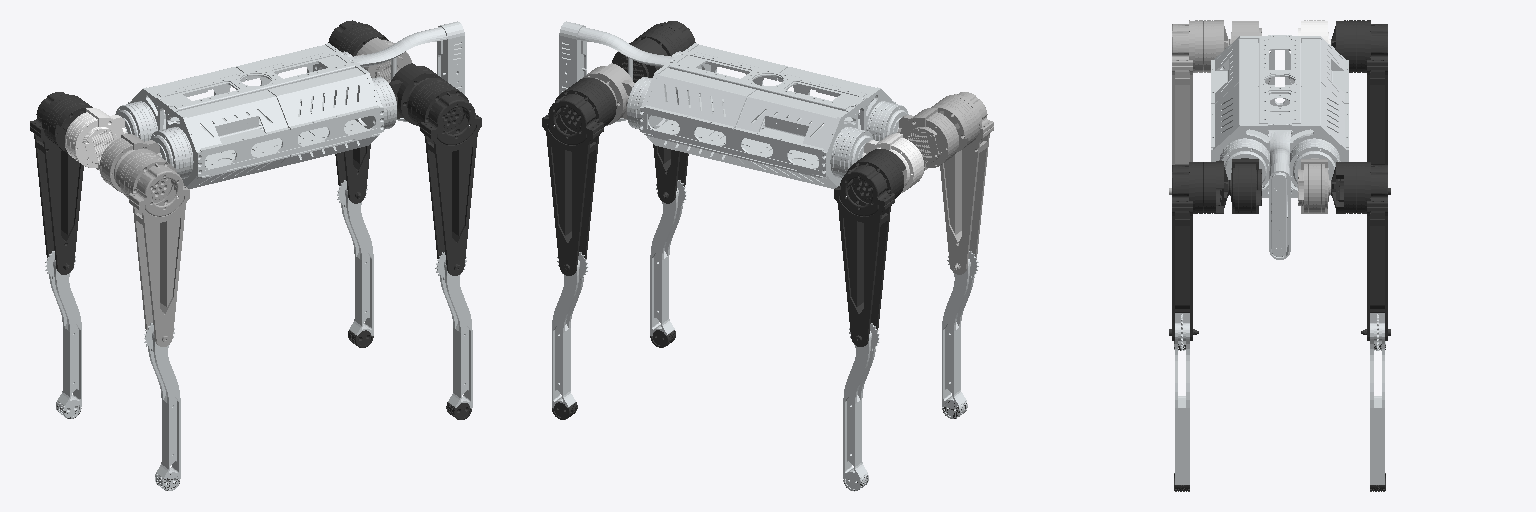
--- Render facts (derived) ---
3 views of the same robot in one strip: view 1: azimuth 30°, elevation 25°; view 2: azimuth 150°, elevation 25°; view 3: azimuth 270°, elevation 25° (orthographic).
Model scotty_robot with 19 links and 18 joints (12 revolute, 6 fixed), rooted at base_link, posed all joints at 0.
Visible links, largest first — view 1: trunk, hip_FR_link, hip_RR_link, hip_RL_link, knee_RL_link, knee_RR_link, knee_FR_link, knee_FL_link, hip_FL_link, abad_RL_link, abad_RR_link, abad_FR_link (+1 smaller); view 2: trunk, hip_FL_link, hip_RL_link, hip_RR_link, knee_RL_link, knee_RR_link, knee_FR_link, knee_FL_link, hip_FR_link, abad_RR_link, abad_RL_link, abad_FL_link (+1 smaller); view 3: trunk, hip_FR_link, hip_FL_link, hip_RR_link, hip_RL_link, knee_FR_link, knee_FL_link, abad_FR_link, abad_FL_link.
Link boxes in pixels (x1,y1,x2,y2): trunk: (115,21,464,188); hip_FR_link: (407,78,481,275); hip_RR_link: (116,149,189,346); hip_RL_link: (30,92,92,274); knee_RL_link: (45,251,81,418); knee_RR_link: (144,323,180,490); knee_FR_link: (435,252,472,408); knee_FL_link: (337,180,373,335); hip_FL_link: (328,20,388,203); abad_RL_link: (65,108,126,170); abad_RR_link: (99,133,160,192); abad_FR_link: (389,63,441,125); trunk: (559,21,908,188); hip_FL_link: (542,78,616,275); hip_RL_link: (834,149,905,346); hip_RR_link: (931,92,993,274); knee_RL_link: (843,323,879,491); knee_RR_link: (942,251,978,418); knee_FR_link: (650,180,686,335); knee_FL_link: (552,252,588,407); hip_FR_link: (634,21,695,203); abad_RR_link: (897,108,958,170); abad_RL_link: (863,133,924,192); abad_FL_link: (582,63,634,125); trunk: (1211,35,1348,259); hip_FR_link: (1169,161,1228,340); hip_FL_link: (1331,162,1390,340); hip_RR_link: (1169,20,1228,194); hip_RL_link: (1331,20,1390,194); knee_FR_link: (1175,314,1189,484); knee_FL_link: (1370,314,1384,484); abad_FR_link: (1229,158,1261,213); abad_FL_link: (1298,158,1330,213).
Size in the robot's own frame: 0.8054 by 0.4186 by 0.7125 metres.
Meshes: 17 distinct files referenced, 17 mesh visuals loaded (17 binary STL).

The robot description file, URDF, robot "scotty_robot":
<?xml version="1.0" ?>
<!-- =================================================================================== -->
<!-- |    This document was autogenerated by xacro from scotty_final.urdf.xacro        | -->
<!-- |    EDITING THIS FILE BY HAND IS NOT RECOMMENDED                                 | -->
<!-- =================================================================================== -->
<robot name="scotty_robot" xmlns:xacro="http://ros.org/wiki/xacro">
  <link name="base_link">
    <visual>
      <origin rpy="0 0 0" xyz="0 0 0"/>
      <geometry>
        <box size="0.001 0.001 0.001"/>
      </geometry>
    </visual>
  </link>
  <joint name="floating_base_link" type="fixed">
    <origin rpy="0 0 0" xyz="0 0 0"/>
    <parent link="base_link"/>
    <child link="trunk"/>
  </joint>
  <!-- <link
    name="base_link"> -->
  <link name="trunk">
    <inertial>
      <origin rpy="0 0 0" xyz="0 0 0.02"/>
      <mass value="6.03"/>
      <inertia ixx="0.04" ixy="0" ixz="0" iyy="0.24" iyz="0" izz="0.27"/>
    </inertial>
    <visual>
      <origin rpy="0 0 0" xyz="0 0 0"/>
      <geometry>
        <mesh filename="package://scotty_description/meshes/base_link.STL"/>
      </geometry>
      <material name="">
        <color rgba="0.89804 0.91765 0.92941 1"/>
      </material>
    </visual>
    <collision>
      <origin rpy="0 0 0" xyz="0 0 0"/>
      <geometry>
        <mesh filename="package://scotty_description/meshes/base_link.STL"/>
      </geometry>
    </collision>
  </link>
  <link name="abad_FR_link">
    <inertial>
      <origin rpy="0 0 0" xyz="0.06 0 0"/>
      <mass value="1.03"/>
      <inertia ixx="0" ixy="0" ixz="0" iyy="0" iyz="0" izz="0"/>
    </inertial>
    <visual>
      <origin rpy="0 0 0" xyz="0 0 0"/>
      <geometry>
        <mesh filename="package://scotty_description/meshes/abad_FR_link.STL"/>
      </geometry>
      <material name="">
        <color rgba="0.29804 0.29804 0.29804 1"/>
      </material>
    </visual>
    <collision>
      <origin rpy="0 0 0" xyz="0 0 0"/>
      <geometry>
        <mesh filename="package://scotty_description/meshes/abad_FR_link.STL"/>
      </geometry>
    </collision>
  </link>
  <joint name="abad_FR_joint" type="revolute">
    <origin rpy="0 0 0" xyz="0.2485 -0.065 0.025"/>
    <parent link="base_link"/>
    <child link="abad_FR_link"/>
    <axis xyz="1 0 0"/>
    <limit effort="50" lower="-0.65" upper="0.65" velocity="25"/>
    <dynamics damping="0.2" friction="0.8"/>
  </joint>
  <link name="hip_FR_link">
    <inertial>
      <origin rpy="0 0 0" xyz="0 -0.06 -0.04"/>
      <mass value="1.74"/>
      <inertia ixx="0.01" ixy="0" ixz="0" iyy="0.01" iyz="0" izz="0"/>
    </inertial>
    <visual>
      <origin rpy="0 0 0" xyz="0 0 0"/>
      <geometry>
        <mesh filename="package://scotty_description/meshes/hip_FR_link.STL"/>
      </geometry>
      <material name="">
        <color rgba="0.29804 0.29804 0.29804 1"/>
      </material>
    </visual>
    <collision>
      <origin rpy="0 0 0" xyz="0 0 0"/>
      <geometry>
        <mesh filename="package://scotty_description/meshes/hip_FR_link.STL"/>
      </geometry>
    </collision>
  </link>
  <joint name="hip_FR_joint" type="revolute">
    <origin rpy="0 0 0" xyz="0.065 -0.03 0"/>
    <parent link="abad_FR_link"/>
    <child link="hip_FR_link"/>
    <axis xyz="0 1 0"/>
    <limit effort="50" lower="-1.25" upper="1.8" velocity="25"/>
    <dynamics damping="0.2" friction="0.8"/>
  </joint>
  <link name="knee_FR_link">
    <inertial>
      <origin rpy="0 0 0" xyz="0.01 0 -0.1"/>
      <mass value="0.52"/>
      <inertia ixx="0.01" ixy="0" ixz="0" iyy="0.01" iyz="0" izz="0"/>
    </inertial>
    <visual>
      <origin rpy="0 0 0" xyz="0 0 0"/>
      <geometry>
        <mesh filename="package://scotty_description/meshes/knee_FR_link.STL"/>
      </geometry>
      <material name="">
        <color rgba="0.89804 0.91765 0.92941 1"/>
      </material>
    </visual>
    <collision>
      <origin rpy="0 0 0" xyz="0 0 0"/>
      <geometry>
        <mesh filename="package://scotty_description/meshes/knee_FR_link.STL"/>
      </geometry>
    </collision>
  </link>
  <joint name="knee_FR_joint" type="revolute">
    <origin rpy="0 0 0" xyz="0 -0.087405 -0.3"/>
    <parent link="hip_FR_link"/>
    <child link="knee_FR_link"/>
    <axis xyz="0 1 0"/>
    <limit effort="50" lower="-2.5" upper="0" velocity="25"/>
    <dynamics damping="0.2" friction="0.8"/>
  </joint>
  <link name="foot_FR_link">
    <inertial>
      <origin rpy="0 0 0" xyz="0 0 0"/>
      <mass value="0.02"/>
      <inertia ixx="0" ixy="0" ixz="0" iyy="0" iyz="0" izz="0"/>
    </inertial>
    <visual>
      <origin rpy="0 0 0" xyz="0 0 0"/>
      <geometry>
        <mesh filename="package://scotty_description/meshes/foot_FR_link.STL"/>
      </geometry>
      <material name="">
        <color rgba="0.29804 0.29804 0.29804 1"/>
      </material>
    </visual>
    <collision>
      <origin rpy="0 0 0" xyz="0 0 0"/>
      <geometry>
        <mesh filename="package://scotty_description/meshes/foot_FR_link.STL"/>
      </geometry>
    </collision>
  </link>
  <joint name="foot_FR_joint" type="fixed">
    <origin rpy="0 0 0" xyz="0.0175 0.001605 -0.3"/>
    <parent link="knee_FR_link"/>
    <child link="foot_FR_link"/>
    <axis xyz="0 0 0"/>
    <dynamics damping="0.2" friction="0.8"/>
  </joint>
  <link name="abad_FL_link">
    <inertial>
      <origin rpy="0 0 0" xyz="0.06 0 0"/>
      <mass value="1.03"/>
      <inertia ixx="0" ixy="0" ixz="0" iyy="0" iyz="0" izz="0"/>
    </inertial>
    <visual>
      <origin rpy="0 0 0" xyz="0 0 0"/>
      <geometry>
        <mesh filename="package://scotty_description/meshes/abad_FL_link.STL"/>
      </geometry>
      <material name="">
        <color rgba="0.75294 0.75294 0.75294 1"/>
      </material>
    </visual>
    <collision>
      <origin rpy="0 0 0" xyz="0 0 0"/>
      <geometry>
        <mesh filename="package://scotty_description/meshes/abad_FL_link.STL"/>
      </geometry>
    </collision>
  </link>
  <joint name="abad_FL_joint" type="revolute">
    <origin rpy="0 0 0" xyz="0.2485 0.065 0.025"/>
    <parent link="base_link"/>
    <child link="abad_FL_link"/>
    <axis xyz="1 0 0"/>
    <limit effort="50" lower="-0.65" upper="0.65" velocity="25"/>
    <dynamics damping="0.2" friction="0.8"/>
  </joint>
  <link name="hip_FL_link">
    <inertial>
      <origin rpy="0 0 0" xyz="0 0.06 -0.04"/>
      <mass value="1.74"/>
      <inertia ixx="0.01" ixy="0" ixz="0" iyy="0.01" iyz="0" izz="0"/>
    </inertial>
    <visual>
      <origin rpy="0 0 0" xyz="0 0 0"/>
      <geometry>
        <mesh filename="package://scotty_description/meshes/hip_FL_link.STL"/>
      </geometry>
      <material name="">
        <color rgba="0.29804 0.29804 0.29804 1"/>
      </material>
    </visual>
    <collision>
      <origin rpy="0 0 0" xyz="0 0 0"/>
      <geometry>
        <mesh filename="package://scotty_description/meshes/hip_FL_link.STL"/>
      </geometry>
    </collision>
  </link>
  <joint name="hip_FL_joint" type="revolute">
    <origin rpy="0 0 0" xyz="0.065 0.03 0"/>
    <parent link="abad_FL_link"/>
    <child link="hip_FL_link"/>
    <axis xyz="0 1 0"/>
    <limit effort="50" lower="-1.25" upper="1.8" velocity="25"/>
    <dynamics damping="0.2" friction="0.8"/>
  </joint>
  <link name="knee_FL_link">
    <inertial>
      <origin rpy="0 0 0" xyz="0.01 0 -0.1"/>
      <mass value="0.52"/>
      <inertia ixx="0.01" ixy="0" ixz="0" iyy="0.01" iyz="0" izz="0"/>
    </inertial>
    <visual>
      <origin rpy="0 0 0" xyz="0 0 0"/>
      <geometry>
        <mesh filename="package://scotty_description/meshes/knee_FL_link.STL"/>
      </geometry>
      <material name="">
        <color rgba="0.89804 0.91765 0.92941 1"/>
      </material>
    </visual>
    <collision>
      <origin rpy="0 0 0" xyz="0 0 0"/>
      <geometry>
        <mesh filename="package://scotty_description/meshes/knee_FL_link.STL"/>
      </geometry>
    </collision>
  </link>
  <joint name="knee_FL_joint" type="revolute">
    <origin rpy="0 0 0" xyz="0 0.087405 -0.3"/>
    <parent link="hip_FL_link"/>
    <child link="knee_FL_link"/>
    <axis xyz="0 1 0"/>
    <limit effort="50" lower="-2.5" upper="0" velocity="25"/>
    <dynamics damping="0.2" friction="0.8"/>
  </joint>
  <link name="foot_FL_link">
    <inertial>
      <origin rpy="0 0 0" xyz="0 0 0"/>
      <mass value="0.02"/>
      <inertia ixx="0" ixy="0" ixz="0" iyy="0" iyz="0" izz="0"/>
    </inertial>
    <visual>
      <origin rpy="0 0 0" xyz="0 0 0"/>
      <geometry>
        <mesh filename="package://scotty_description/meshes/foot_FL_link.STL"/>
      </geometry>
      <material name="">
        <color rgba="0.29804 0.29804 0.29804 1"/>
      </material>
    </visual>
    <collision>
      <origin rpy="0 0 0" xyz="0 0 0"/>
      <geometry>
        <mesh filename="package://scotty_description/meshes/foot_FL_link.STL"/>
      </geometry>
    </collision>
  </link>
  <joint name="foot_FL_joint" type="fixed">
    <origin rpy="0 0 0" xyz="0.0175 0.004395 -0.3"/>
    <parent link="knee_FL_link"/>
    <child link="foot_FL_link"/>
    <axis xyz="0 0 0"/>
    <dynamics damping="0.2" friction="0.8"/>
  </joint>
  <link name="abad_RR_link">
    <inertial>
      <origin rpy="0 0 0" xyz="-0.06 0 0"/>
      <mass value="1.03"/>
      <inertia ixx="0" ixy="0" ixz="0" iyy="0" iyz="0" izz="0"/>
    </inertial>
    <visual>
      <origin rpy="0 0 0" xyz="0 0 0"/>
      <geometry>
        <mesh filename="package://scotty_description/meshes/abad_RR_link.STL"/>
      </geometry>
      <material name="">
        <color rgba="0.75294 0.75294 0.75294 1"/>
      </material>
    </visual>
    <collision>
      <origin rpy="0 0 0" xyz="0 0 0"/>
      <geometry>
        <mesh filename="package://scotty_description/meshes/abad_RR_link.STL"/>
      </geometry>
    </collision>
  </link>
  <joint name="abad_RR_joint" type="revolute">
    <origin rpy="0 0 0" xyz="-0.2485 -0.065 0.025"/>
    <parent link="base_link"/>
    <child link="abad_RR_link"/>
    <axis xyz="1 0 0"/>
    <limit effort="50" lower="-0.65" upper="0.65" velocity="25"/>
    <dynamics damping="0.2" friction="0.8"/>
  </joint>
  <link name="hip_RR_link">
    <inertial>
      <origin rpy="0 0 0" xyz="0 -0.06 -0.04"/>
      <mass value="1.74"/>
      <inertia ixx="0.01" ixy="0" ixz="0" iyy="0.01" iyz="0" izz="0"/>
    </inertial>
    <visual>
      <origin rpy="0 0 0" xyz="0 0 0"/>
      <geometry>
        <mesh filename="package://scotty_description/meshes/hip_RR_link.STL"/>
      </geometry>
      <material name="">
        <color rgba="0.75294 0.75294 0.75294 1"/>
      </material>
    </visual>
    <collision>
      <origin rpy="0 0 0" xyz="0 0 0"/>
      <geometry>
        <mesh filename="package://scotty_description/meshes/hip_RR_link.STL"/>
      </geometry>
    </collision>
  </link>
  <joint name="hip_RR_joint" type="revolute">
    <origin rpy="0 0 0" xyz="-0.065 -0.03 0"/>
    <parent link="abad_RR_link"/>
    <child link="hip_RR_link"/>
    <axis xyz="0 1 0"/>
    <limit effort="50" lower="-1.25" upper="1.8" velocity="25"/>
    <dynamics damping="0.2" friction="0.8"/>
  </joint>
  <link name="knee_RR_link">
    <inertial>
      <origin rpy="0 0 0" xyz="0.01 0 -0.1"/>
      <mass value="0.52"/>
      <inertia ixx="0.01" ixy="0" ixz="0" iyy="0.01" iyz="0" izz="0"/>
    </inertial>
    <visual>
      <origin rpy="0 0 0" xyz="0 0 0"/>
      <geometry>
        <mesh filename="package://scotty_description/meshes/knee_RR_link.STL"/>
      </geometry>
      <material name="">
        <color rgba="0.89804 0.91765 0.92941 1"/>
      </material>
    </visual>
    <collision>
      <origin rpy="0 0 0" xyz="0 0 0"/>
      <geometry>
        <mesh filename="package://scotty_description/meshes/knee_RR_link.STL"/>
      </geometry>
    </collision>
  </link>
  <joint name="knee_RR_joint" type="revolute">
    <origin rpy="0 0 0" xyz="0 -0.087405 -0.3"/>
    <parent link="hip_RR_link"/>
    <child link="knee_RR_link"/>
    <axis xyz="0 1 0"/>
    <limit effort="50" lower="-2.5" upper="0" velocity="25"/>
    <dynamics damping="0.2" friction="0.8"/>
  </joint>
  <link name="foot_RR_link">
    <inertial>
      <origin rpy="0 0 0" xyz="0 0 0"/>
      <mass value="0.02"/>
      <inertia ixx="0" ixy="0" ixz="0" iyy="0" iyz="0" izz="0"/>
    </inertial>
    <visual>
      <origin rpy="0 0 0" xyz="0 0 0"/>
      <geometry>
        <mesh filename="package://scotty_description/meshes/foot_RR_link.STL"/>
      </geometry>
      <material name="">
        <color rgba="0.29804 0.29804 0.29804 1"/>
      </material>
    </visual>
    <collision>
      <origin rpy="0 0 0" xyz="0 0 0"/>
      <geometry>
        <mesh filename="package://scotty_description/meshes/foot_RR_link.STL"/>
      </geometry>
    </collision>
  </link>
  <joint name="foot_RR_joint" type="fixed">
    <origin rpy="0 0 0" xyz="0.0175 0.001605 -0.3"/>
    <parent link="knee_RR_link"/>
    <child link="foot_RR_link"/>
    <axis xyz="0 0 0"/>
    <dynamics damping="0.2" friction="0.8"/>
  </joint>
  <link name="abad_RL_link">
    <inertial>
      <origin rpy="0 0 0" xyz="-0.06 0 0"/>
      <mass value="1.03"/>
      <inertia ixx="0" ixy="0" ixz="0" iyy="0" iyz="0" izz="0"/>
    </inertial>
    <visual>
      <origin rpy="0 0 0" xyz="0 0 0"/>
      <geometry>
        <mesh filename="package://scotty_description/meshes/abad_RL_link.STL"/>
      </geometry>
      <material name="">
        <color rgba="1 1 1 1"/>
      </material>
    </visual>
    <collision>
      <origin rpy="0 0 0" xyz="0 0 0"/>
      <geometry>
        <mesh filename="package://scotty_description/meshes/abad_RL_link.STL"/>
      </geometry>
    </collision>
  </link>
  <joint name="abad_RL_joint" type="revolute">
    <origin rpy="0 0 0" xyz="-0.2485 0.065 0.025"/>
    <parent link="base_link"/>
    <child link="abad_RL_link"/>
    <axis xyz="1 0 0"/>
    <limit effort="50" lower="-0.65" upper="0.65" velocity="25"/>
    <dynamics damping="0.2" friction="0.8"/>
  </joint>
  <link name="hip_RL_link">
    <inertial>
      <origin rpy="0 0 0" xyz="0 0.06 -0.04"/>
      <mass value="1.74"/>
      <inertia ixx="0.01" ixy="0" ixz="0" iyy="0.01" iyz="0" izz="0"/>
    </inertial>
    <visual>
      <origin rpy="0 0 0" xyz="0 0 0"/>
      <geometry>
        <mesh filename="package://scotty_description/meshes/hip_RL_link.STL"/>
      </geometry>
      <material name="">
        <color rgba="0.29804 0.29804 0.29804 1"/>
      </material>
    </visual>
    <collision>
      <origin rpy="0 0 0" xyz="0 0 0"/>
      <geometry>
        <mesh filename="package://scotty_description/meshes/hip_RL_link.STL"/>
      </geometry>
    </collision>
  </link>
  <joint name="hip_RL_joint" type="revolute">
    <origin rpy="0 0 0" xyz="-0.065 0.03 0"/>
    <parent link="abad_RL_link"/>
    <child link="hip_RL_link"/>
    <axis xyz="0 1 0"/>
    <limit effort="50" lower="-1.25" upper="1.8" velocity="25"/>
    <dynamics damping="0.2" friction="0.8"/>
  </joint>
  <link name="knee_RL_link">
    <inertial>
      <origin rpy="0 0 0" xyz="0.01 0 -0.1"/>
      <mass value="0.52"/>
      <inertia ixx="0.01" ixy="0" ixz="0" iyy="0.01" iyz="0" izz="0"/>
    </inertial>
    <visual>
      <origin rpy="0 0 0" xyz="0 0 0"/>
      <geometry>
        <mesh filename="package://scotty_description/meshes/knee_RL_link.STL"/>
      </geometry>
      <material name="">
        <color rgba="0.89804 0.91765 0.92941 1"/>
      </material>
    </visual>
    <collision>
      <origin rpy="0 0 0" xyz="0 0 0"/>
      <geometry>
        <mesh filename="package://scotty_description/meshes/knee_RL_link.STL"/>
      </geometry>
    </collision>
  </link>
  <joint name="knee_RL_joint" type="revolute">
    <origin rpy="0 0 0" xyz="0 0.087405 -0.3"/>
    <parent link="hip_RL_link"/>
    <child link="knee_RL_link"/>
    <axis xyz="0 1 0"/>
    <limit effort="50" lower="-2.5" upper="0" velocity="25"/>
    <dynamics damping="0.2" friction="0.8"/>
  </joint>
  <link name="foot_RL_link">
    <inertial>
      <origin rpy="0 0 0" xyz="0 0 0"/>
      <mass value="0.02"/>
      <inertia ixx="0" ixy="0" ixz="0" iyy="0" iyz="0" izz="0"/>
    </inertial>
    <visual>
      <origin rpy="0 0 0" xyz="0 0 0"/>
      <geometry>
        <mesh filename="package://scotty_description/meshes/foot_RL_link.STL"/>
      </geometry>
      <material name="">
        <color rgba="0.29804 0.29804 0.29804 1"/>
      </material>
    </visual>
    <collision>
      <origin rpy="0 0 0" xyz="0 0 0"/>
      <geometry>
        <mesh filename="package://scotty_description/meshes/foot_RL_link.STL"/>
      </geometry>
    </collision>
  </link>
  <joint name="foot_RL_joint" type="fixed">
    <origin rpy="0 0 0" xyz="0.0175 0.004395 -0.3"/>
    <parent link="knee_RL_link"/>
    <child link="foot_RL_link"/>
    <axis xyz="0 0 0"/>
    <dynamics damping="0.2" friction="0.8"/>
  </joint>
  <!-- 
   Define base fixed joint 
  <link name="world" />
  <joint name="world_to_base" type="fixed">
    <parent link="world"/>
    <child link="base_link"/>
    <origin xyz="0 0 0" rpy="0 0 0"/>
  </joint> -->
  <!-- IMU Link -->
  <link name="imu_link">
    <inertial>
      <mass value="0.001"/>
      <origin rpy="0 0 0" xyz="0 0 0"/>
      <inertia ixx="1e-09" ixy="0.0" ixz="0.0" iyy="1e-09" iyz="0.0" izz="1e-09"/>
    </inertial>
  </link>
  <!-- IMU Joint -->
  <joint name="imu_joint" type="fixed">
    <parent link="base_link"/>
    <child link="imu_link"/>
  </joint>
  <!-- Gazebo Plugin for IMU -->
  <gazebo>
    <plugin filename="libhector_gazebo_ros_imu.so" name="imu_controller">
      <updateRate>50.0</updateRate>
      <bodyName>imu_link</bodyName>
      <topicName>imu/data</topicName>
      <accelDrift>0.005 0.005 0.005</accelDrift>
      <accelGaussianNoise>0.005 0.005 0.005</accelGaussianNoise>
      <rateDrift>0.005 0.005 0.005 </rateDrift>
      <rateGaussianNoise>0.005 0.005 0.005 </rateGaussianNoise>
      <headingDrift>0.005</headingDrift>
      <headingGaussianNoise>0.005</headingGaussianNoise>
    </plugin>
  </gazebo>
  <!-- ros_control plugin -->
  <gazebo>
    <plugin filename="libgazebo_ros_p3d.so" name="p3d_base_controller">
      <alwaysOn>true</alwaysOn>
      <updateRate>10.0</updateRate>
      <bodyName>base_link</bodyName>
      <topicName>odom/ground_truth</topicName>
      <gaussianNoise>0.01</gaussianNoise>
      <frameName>world</frameName>
      <xyzOffsets>0 0 0</xyzOffsets>
      <rpyOffsets>0 0 0</rpyOffsets>
    </plugin>
  </gazebo>
  <gazebo>
    <plugin filename="libgazebo_ros_control.so" name="gazebo_ros_control">
      <legacyModeNS>true</legacyModeNS>
    </plugin>
  </gazebo>
  <!-- Transmissions for Front Right (FR) -->
  <transmission name="abad_FR_joint_trans">
    <type>transmission_interface/SimpleTransmission</type>
    <joint name="abad_FR_joint">
      <hardwareInterface>hardware_interface/EffortJointInterface</hardwareInterface>
    </joint>
    <actuator name="abad_FR_motor">
      <hardwareInterface>hardware_interface/EffortJointInterface</hardwareInterface>
      <mechanicalReduction>1</mechanicalReduction>
    </actuator>
  </transmission>
  <transmission name="hip_FR_joint_trans">
    <type>transmission_interface/SimpleTransmission</type>
    <joint name="hip_FR_joint">
      <hardwareInterface>hardware_interface/EffortJointInterface</hardwareInterface>
    </joint>
    <actuator name="hip_FR_motor">
      <hardwareInterface>hardware_interface/EffortJointInterface</hardwareInterface>
      <mechanicalReduction>1</mechanicalReduction>
    </actuator>
  </transmission>
  <transmission name="knee_FR_joint_trans">
    <type>transmission_interface/SimpleTransmission</type>
    <joint name="knee_FR_joint">
      <hardwareInterface>hardware_interface/EffortJointInterface</hardwareInterface>
    </joint>
    <actuator name="knee_FR_motor">
      <hardwareInterface>hardware_interface/EffortJointInterface</hardwareInterface>
      <mechanicalReduction>1</mechanicalReduction>
    </actuator>
  </transmission>
  <!-- Transmissions for Front Left (FL) -->
  <transmission name="abad_FL_joint_trans">
    <type>transmission_interface/SimpleTransmission</type>
    <joint name="abad_FL_joint">
      <hardwareInterface>hardware_interface/EffortJointInterface</hardwareInterface>
    </joint>
    <actuator name="abad_FL_motor">
      <hardwareInterface>hardware_interface/EffortJointInterface</hardwareInterface>
      <mechanicalReduction>1</mechanicalReduction>
    </actuator>
  </transmission>
  <transmission name="hip_FL_joint_trans">
    <type>transmission_interface/SimpleTransmission</type>
    <joint name="hip_FL_joint">
      <hardwareInterface>hardware_interface/EffortJointInterface</hardwareInterface>
    </joint>
    <actuator name="hip_FL_motor">
      <hardwareInterface>hardware_interface/EffortJointInterface</hardwareInterface>
      <mechanicalReduction>1</mechanicalReduction>
    </actuator>
  </transmission>
  <transmission name="knee_FL_joint_trans">
    <type>transmission_interface/SimpleTransmission</type>
    <joint name="knee_FL_joint">
      <hardwareInterface>hardware_interface/EffortJointInterface</hardwareInterface>
    </joint>
    <actuator name="knee_FL_motor">
      <hardwareInterface>hardware_interface/EffortJointInterface</hardwareInterface>
      <mechanicalReduction>1</mechanicalReduction>
    </actuator>
  </transmission>
  <!-- Transmissions for Rear Right (RR) -->
  <transmission name="abad_RR_joint_trans">
    <type>transmission_interface/SimpleTransmission</type>
    <joint name="abad_RR_joint">
      <hardwareInterface>hardware_interface/EffortJointInterface</hardwareInterface>
    </joint>
    <actuator name="abad_RR_motor">
      <hardwareInterface>hardware_interface/EffortJointInterface</hardwareInterface>
      <mechanicalReduction>1</mechanicalReduction>
    </actuator>
  </transmission>
  <transmission name="hip_RR_joint_trans">
    <type>transmission_interface/SimpleTransmission</type>
    <joint name="hip_RR_joint">
      <hardwareInterface>hardware_interface/EffortJointInterface</hardwareInterface>
    </joint>
    <actuator name="hip_RR_motor">
      <hardwareInterface>hardware_interface/EffortJointInterface</hardwareInterface>
      <mechanicalReduction>1</mechanicalReduction>
    </actuator>
  </transmission>
  <transmission name="knee_RR_joint_trans">
    <type>transmission_interface/SimpleTransmission</type>
    <joint name="knee_RR_joint">
      <hardwareInterface>hardware_interface/EffortJointInterface</hardwareInterface>
    </joint>
    <actuator name="knee_RR_motor">
      <hardwareInterface>hardware_interface/EffortJointInterface</hardwareInterface>
      <mechanicalReduction>1</mechanicalReduction>
    </actuator>
  </transmission>
  <!-- Transmissions for Rear Left (RL) -->
  <transmission name="abad_RL_joint_trans">
    <type>transmission_interface/SimpleTransmission</type>
    <joint name="abad_RL_joint">
      <hardwareInterface>hardware_interface/EffortJointInterface</hardwareInterface>
    </joint>
    <actuator name="abad_RL_motor">
      <hardwareInterface>hardware_interface/EffortJointInterface</hardwareInterface>
      <mechanicalReduction>1</mechanicalReduction>
    </actuator>
  </transmission>
  <transmission name="hip_RL_joint_trans">
    <type>transmission_interface/SimpleTransmission</type>
    <joint name="hip_RL_joint">
      <hardwareInterface>hardware_interface/EffortJointInterface</hardwareInterface>
    </joint>
    <actuator name="hip_RL_motor">
      <hardwareInterface>hardware_interface/EffortJointInterface</hardwareInterface>
      <mechanicalReduction>1</mechanicalReduction>
    </actuator>
  </transmission>
  <transmission name="knee_RL_joint_trans">
    <type>transmission_interface/SimpleTransmission</type>
    <joint name="knee_RL_joint">
      <hardwareInterface>hardware_interface/EffortJointInterface</hardwareInterface>
    </joint>
    <actuator name="knee_RL_motor">
      <hardwareInterface>hardware_interface/EffortJointInterface</hardwareInterface>
      <mechanicalReduction>1</mechanicalReduction>
    </actuator>
  </transmission>
  <gazebo reference="foot_FR_link">
    <kp>1000000.0</kp>
    <kd>1.0</kd>
    <mu1>0.8</mu1>
    <mu2>0.8</mu2>
    <maxVel>0.0</maxVel>
    <minDepth>0.001</minDepth>
    <material>Gazebo/FlatBlack</material>
  </gazebo>
  <gazebo reference="foot_FL_link">
    <kp>1000000.0</kp>
    <kd>1.0</kd>
    <mu1>0.8</mu1>
    <mu2>0.8</mu2>
    <maxVel>0.0</maxVel>
    <minDepth>0.001</minDepth>
    <material>Gazebo/FlatBlack</material>
  </gazebo>
  <gazebo reference="foot_RR_link">
    <kp>1000000.0</kp>
    <kd>1.0</kd>
    <mu1>0.8</mu1>
    <mu2>0.8</mu2>
    <maxVel>0.0</maxVel>
    <minDepth>0.001</minDepth>
    <material>Gazebo/FlatBlack</material>
  </gazebo>
  <gazebo reference="foot_RL_link">
    <kp>1000000.0</kp>
    <kd>1.0</kd>
    <mu1>0.8</mu1>
    <mu2>0.8</mu2>
    <maxVel>0.0</maxVel>
    <minDepth>0.001</minDepth>
    <material>Gazebo/FlatBlack</material>
  </gazebo>
</robot>
